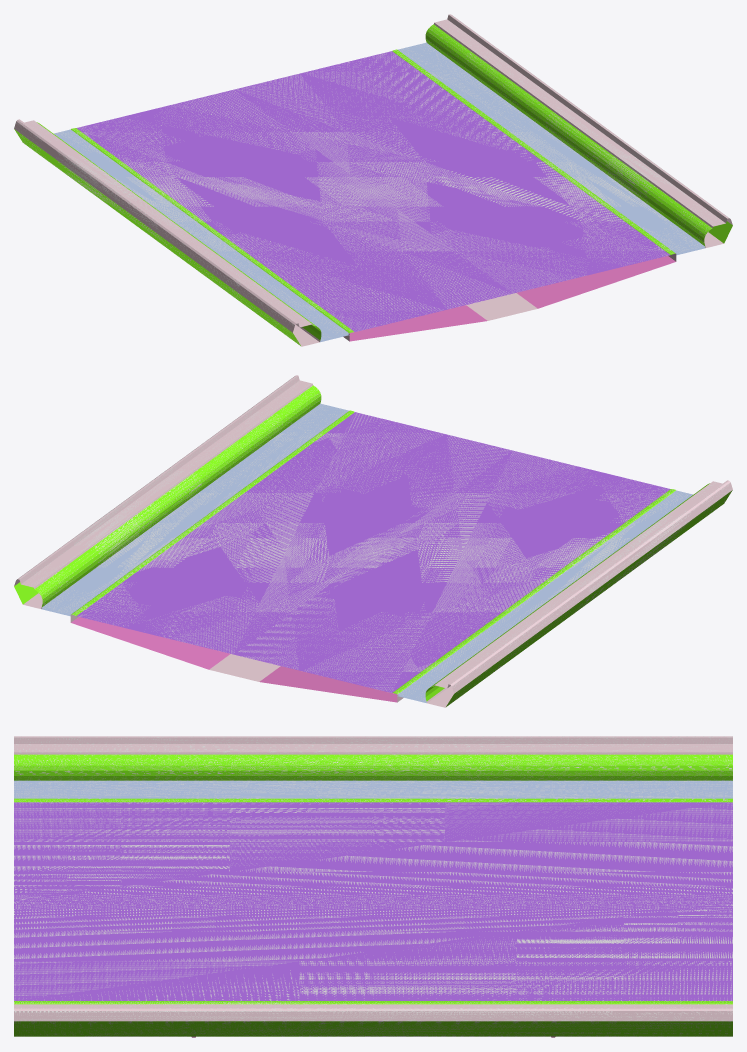
3 views of the same model, one above another, from view 1: azimuth 30°, elevation 25°; view 2: azimuth 150°, elevation 25°; view 3: azimuth 270°, elevation 25° (orthographic). The views are drawn at different scales.
Parts seen in each view (by area): view 1: StraightAir-UV3.Surface, Unassigned_4, Unassigned_3, Unassigned_1, Unassigned_0; view 2: StraightAir-UV3.Surface, Unassigned_4, Unassigned_1, Unassigned_3, Unassigned_0; view 3: StraightAir-UV3.Surface, Unassigned_4, Unassigned_1, Unassigned_0, Unassigned_3.
Boxes of the visible parts, bbox=[...] form: StraightAir-UV3.Surface: bbox=[14, 14, 732, 346]; Unassigned_4: bbox=[79, 52, 667, 330]; Unassigned_3: bbox=[57, 44, 702, 339]; Unassigned_1: bbox=[20, 26, 711, 344]; Unassigned_0: bbox=[15, 15, 729, 331]; StraightAir-UV3.Surface: bbox=[14, 375, 732, 707]; Unassigned_4: bbox=[79, 413, 667, 692]; Unassigned_1: bbox=[39, 386, 730, 702]; Unassigned_3: bbox=[43, 404, 687, 700]; Unassigned_0: bbox=[19, 377, 730, 701]; StraightAir-UV3.Surface: bbox=[14, 736, 732, 1037]; Unassigned_4: bbox=[14, 802, 732, 1000]; Unassigned_1: bbox=[14, 754, 732, 1036]; Unassigned_0: bbox=[14, 736, 732, 1021]; Unassigned_3: bbox=[14, 780, 732, 798].
Size of the model in its own units: 29.16 by 2.78 by 32.
